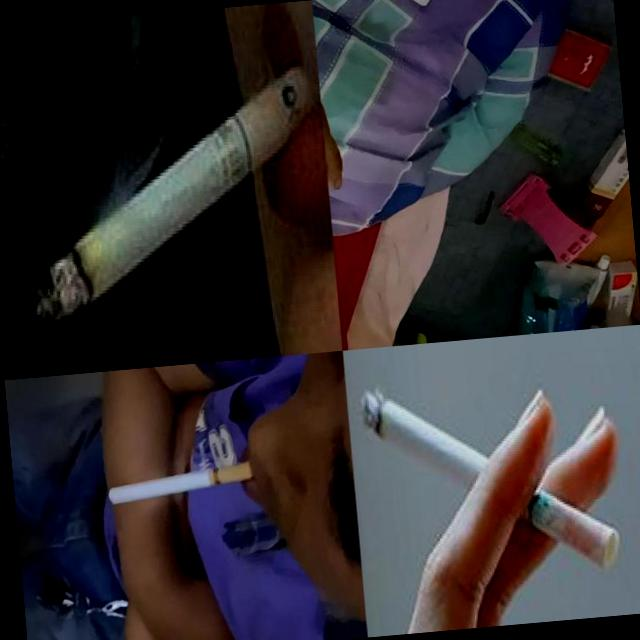cigarette: (14, 56, 336, 327), (360, 368, 622, 591), (104, 461, 253, 505)
